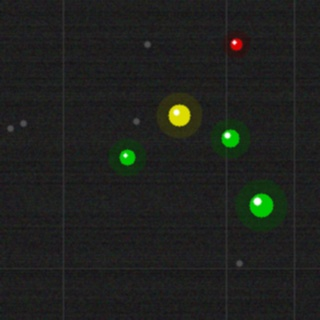green_normal: (247, 191, 275, 219), (219, 127, 241, 149), (117, 147, 137, 167)
red_fault: (228, 36, 244, 52)
yellow_warning: (166, 102, 192, 128)
